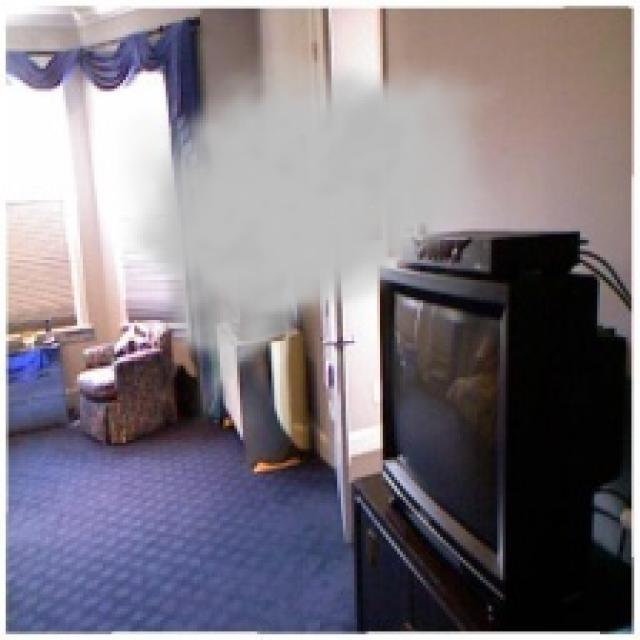Smoke: (117, 46, 509, 432)
